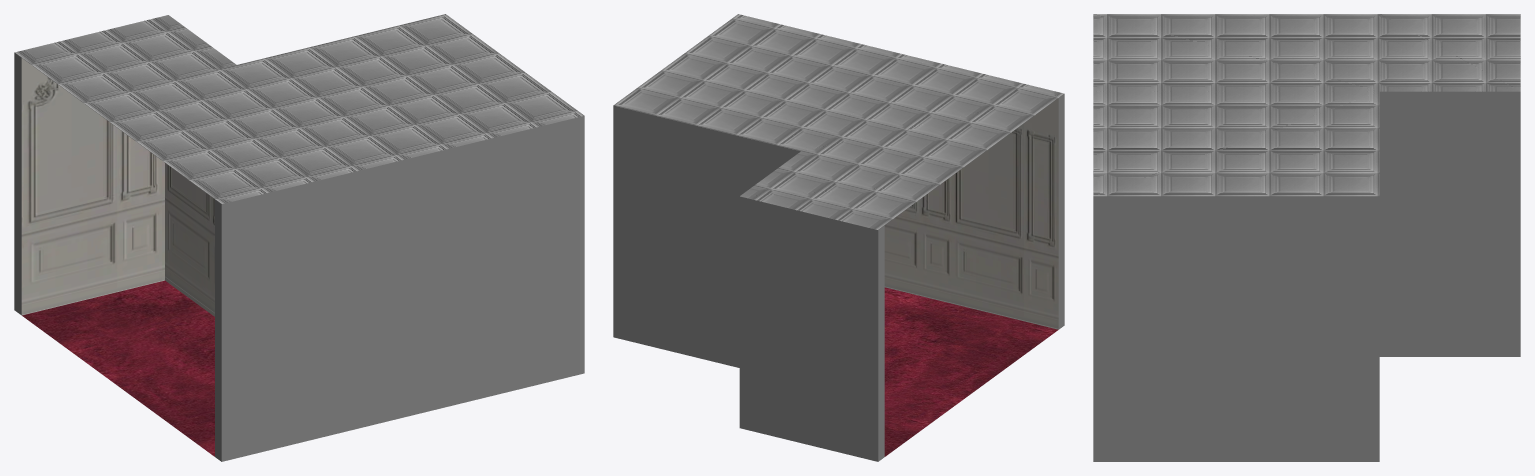
File: rapper_room.FBX
3 renders of one model, left to right at view 1: azimuth 30°, elevation 25°; view 2: azimuth 150°, elevation 25°; view 3: azimuth 270°, elevation 25°, orthographic. The views are drawn at different scales.
Visible parts, largest first — view 1: rapper_room; view 2: rapper_room; view 3: rapper_room.
Boxes of the visible parts, <box> form: rapper_room: <box>14,14,584,461</box>; rapper_room: <box>613,14,1064,461</box>; rapper_room: <box>1093,14,1520,461</box>.
Bounding box in the file's own units: 412 × 280 × 408.
